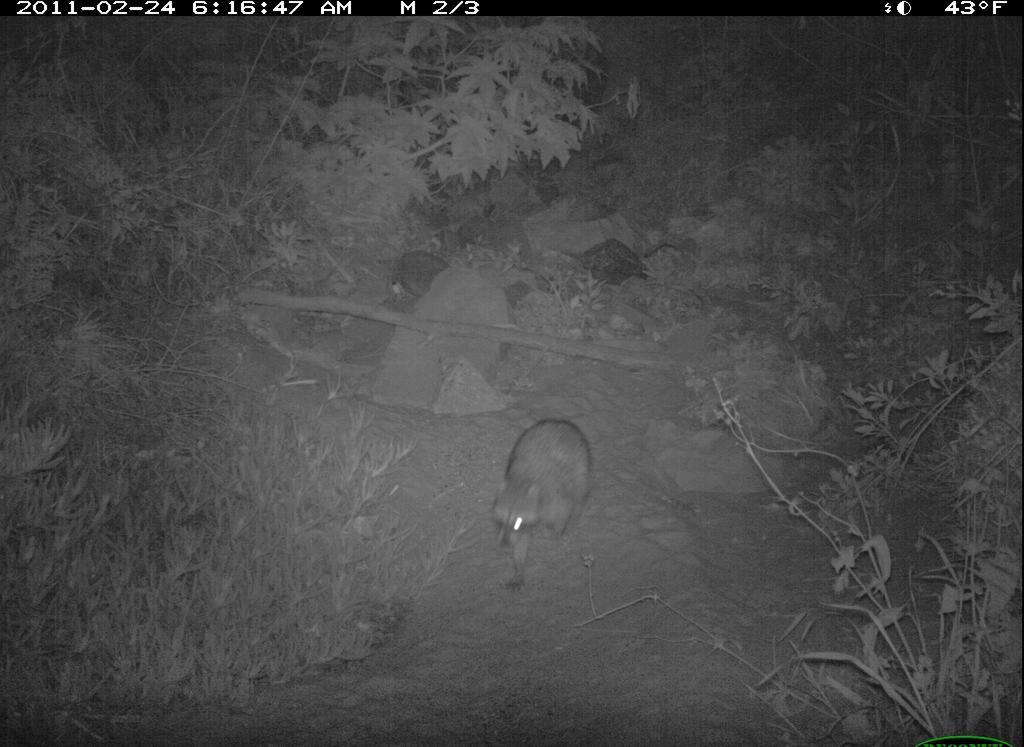raccoon: (486, 409, 626, 582)
